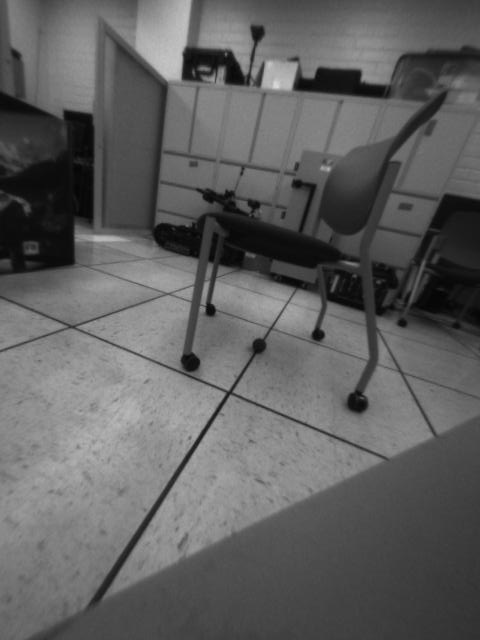dogtoy: (246, 333, 274, 356)
